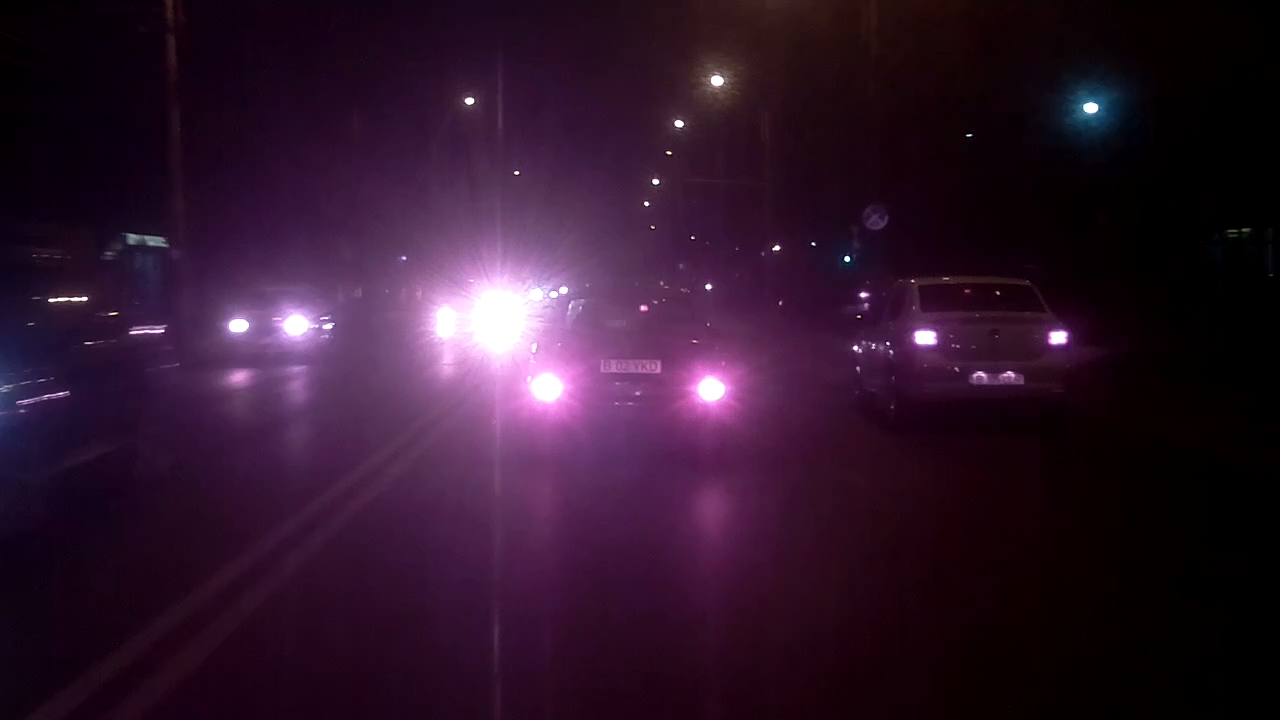license-plate: (595, 355, 664, 376)
